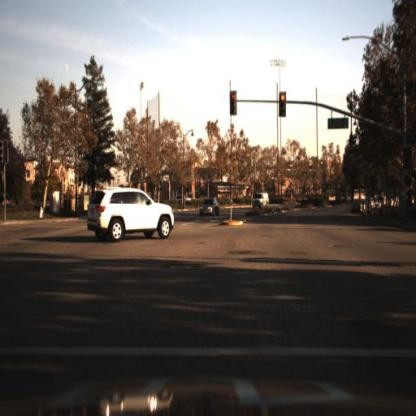car: (87, 183, 177, 243), (87, 182, 174, 242), (250, 191, 273, 213), (349, 198, 367, 217)
trafficLight-Red: (277, 87, 289, 123), (402, 146, 415, 174)
trafficLight-RedLeft: (229, 88, 239, 119)
